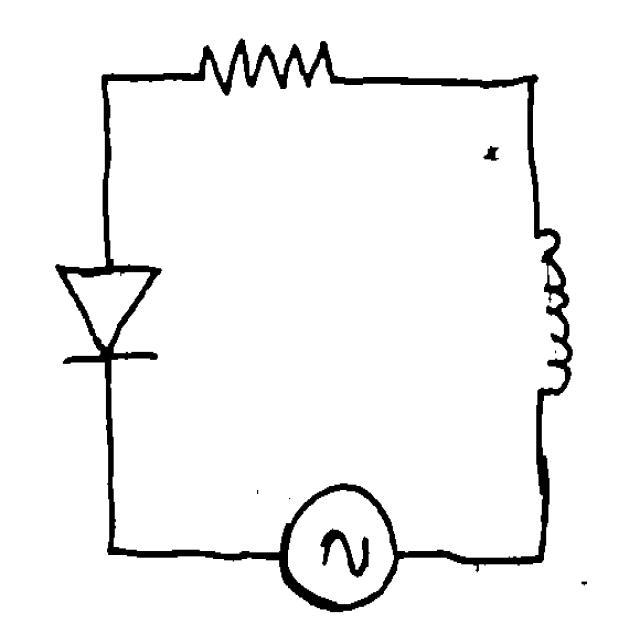ac: (271, 477, 408, 623)
diode: (42, 248, 172, 385)
inductor: (514, 209, 585, 409)
resistor: (186, 33, 348, 106)
